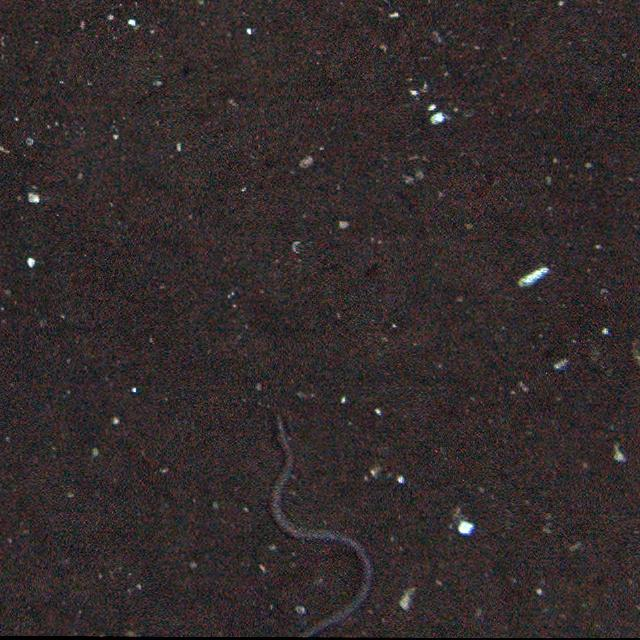eel: (261, 414, 377, 638)
